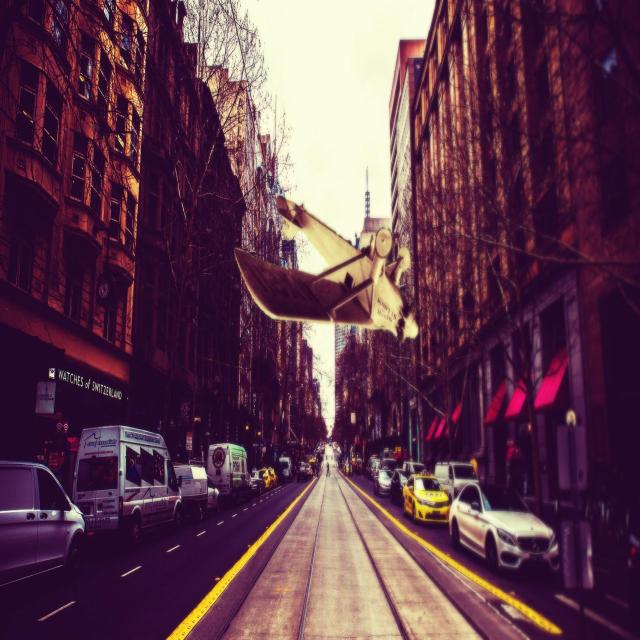airplane: (233, 194, 419, 345)
